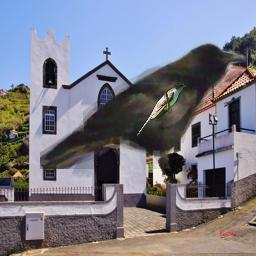Crow: (40, 41, 246, 169)
Cuckoo: (136, 83, 186, 136)
